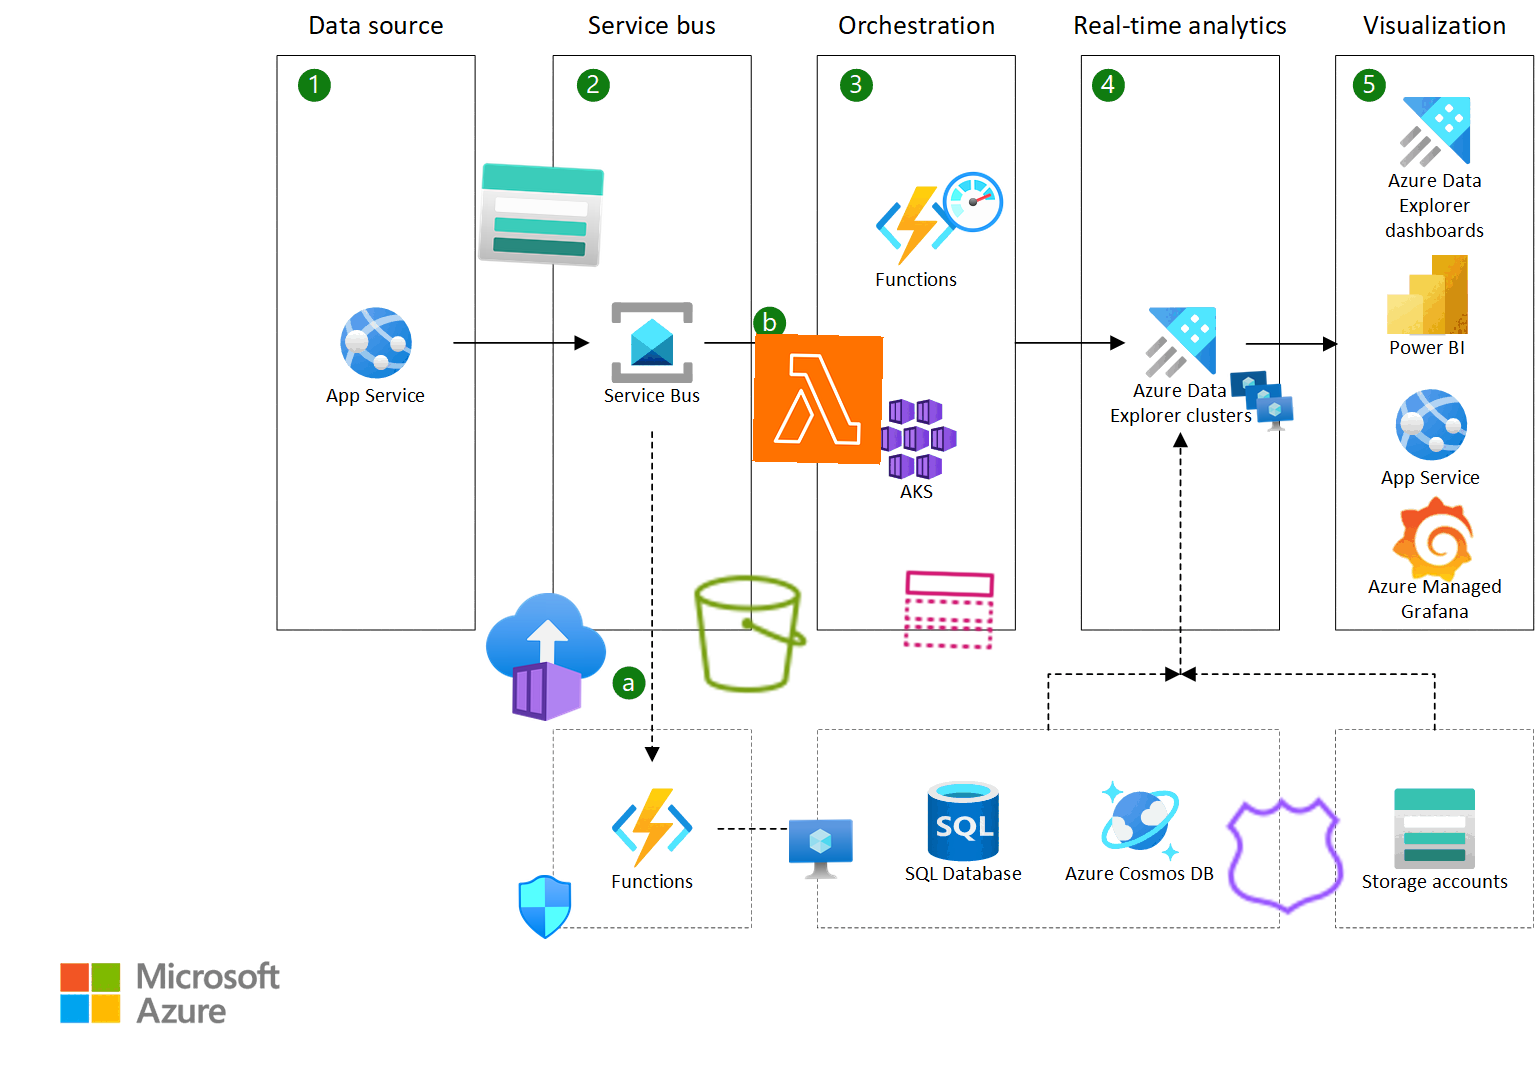aws_lambda: (752, 333, 884, 465)
aws_route_53_hosted_zone: (1217, 788, 1355, 924)
aws_simple_notification_service_topic: (899, 560, 1000, 660)
aws_simple_storage_service_bucket: (685, 568, 816, 699)
azure_container_instances: (480, 592, 610, 722)
azure_monitor: (940, 169, 1007, 234)
azure_network_security_groups: (512, 874, 578, 940)
azure_storage_accounts: (473, 147, 609, 282)
azure_virtual_machine: (787, 818, 854, 884)
azure_vm_scale_sets: (1227, 366, 1295, 434)
